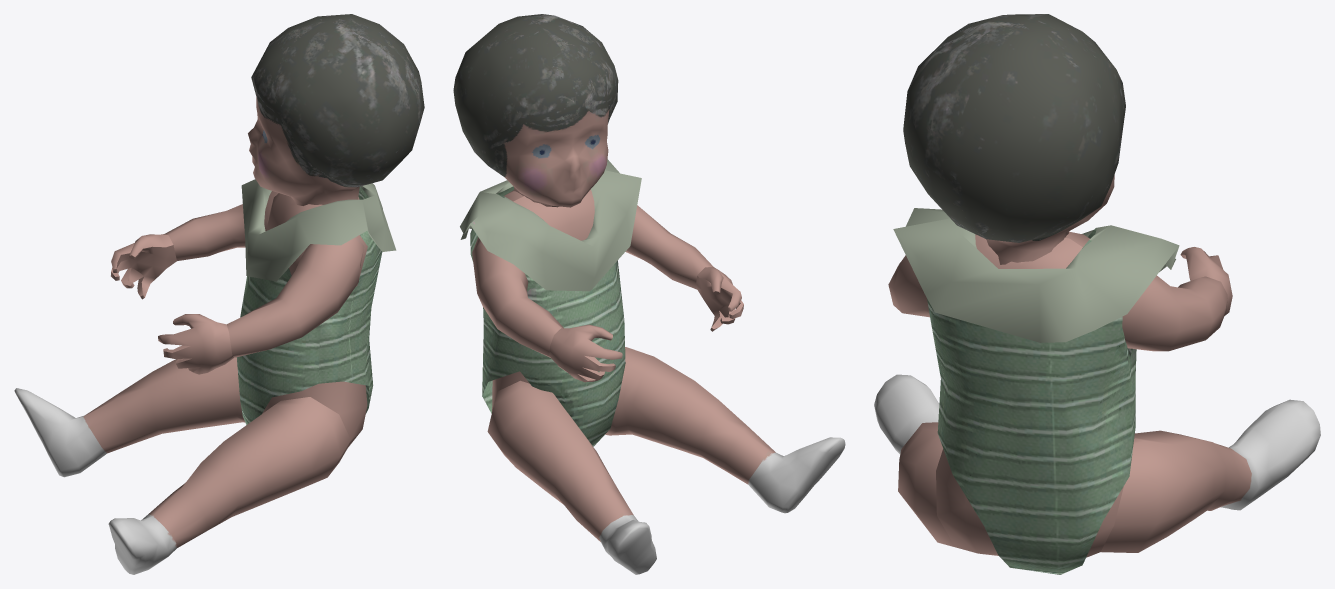
Rendered from SM_Doll_3.fbx.
The picture shows the model from 3 angles, left to right: view 1: azimuth 30°, elevation 25°; view 2: azimuth 150°, elevation 25°; view 3: azimuth 270°, elevation 25°; orthographic projection. The views are drawn at different scales.
Parts seen in each view (by area): view 1: SM_Doll_3; view 2: SM_Doll_3; view 3: SM_Doll_3.
Boxes of the visible parts, x1,y1,x2,y2 form: SM_Doll_3: (14, 14, 424, 574); SM_Doll_3: (453, 14, 845, 574); SM_Doll_3: (874, 14, 1320, 574).
Bounding box in the file's own units: 16.01 × 13.92 × 21.07.
Materials: 1 (1 with a texture image).
